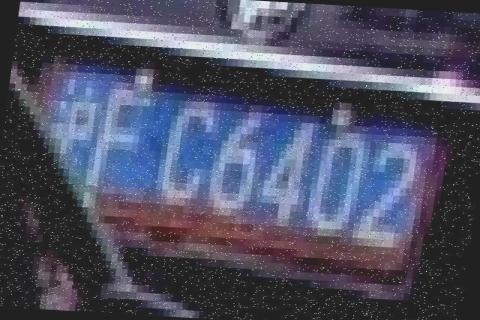LicensePlate: (26, 37, 450, 293)
